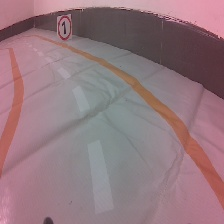limit: (56, 13, 73, 43)
